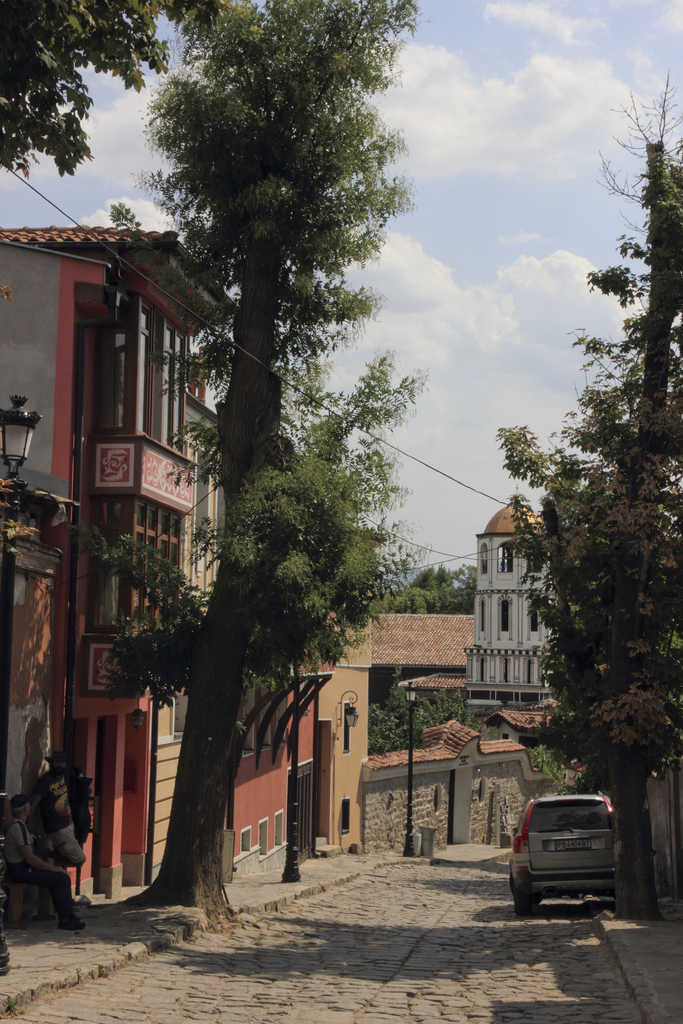Car: (508, 788, 629, 917)
